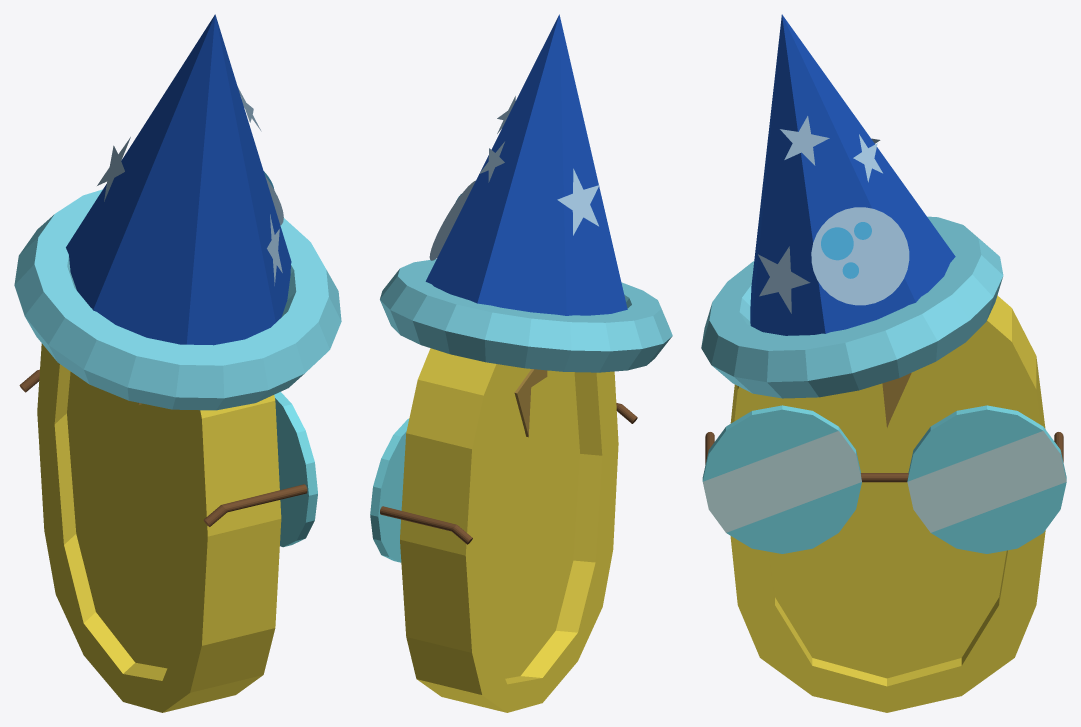
The model's file is NerdWizardCoin.fbx.
3 renders of one model, left to right at view 1: azimuth 30°, elevation 25°; view 2: azimuth 150°, elevation 25°; view 3: azimuth 270°, elevation 25°, orthographic. The views are drawn at different scales.
Parts seen in each view (by area): view 1: Cone, Cube, Cylinder, Circle; view 2: Cube, Cone, Cylinder, Circle, Cube.001; view 3: Cube, Cone, Cylinder, Circle, Cube.001.
Part boxes in pixels (x1,y1,x2,y2): Cone: [14, 14, 341, 410]; Cube: [37, 343, 281, 712]; Cylinder: [19, 369, 317, 547]; Circle: [97, 87, 283, 285]; Cube: [400, 348, 618, 712]; Cone: [380, 14, 672, 372]; Cylinder: [370, 403, 637, 562]; Circle: [429, 96, 599, 260]; Cube.001: [514, 369, 547, 437]; Cube: [730, 295, 1045, 712]; Cone: [701, 14, 1003, 398]; Cylinder: [702, 405, 1066, 553]; Circle: [758, 116, 909, 313]; Cube.001: [882, 373, 911, 427].
Size of the model in its own units: 141 by 341 by 165.
